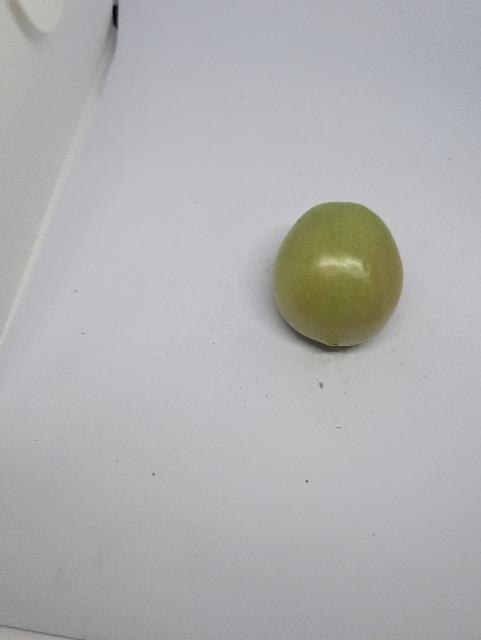green: (269, 198, 407, 350)
